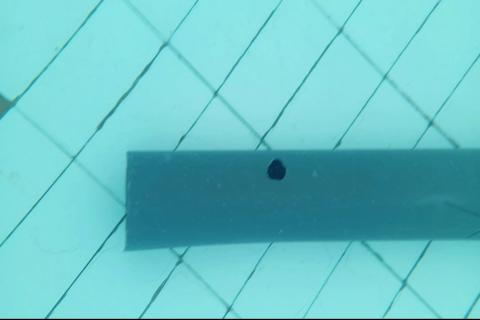kebocoran: (266, 157, 287, 182)
keretakan: (445, 201, 480, 238)
